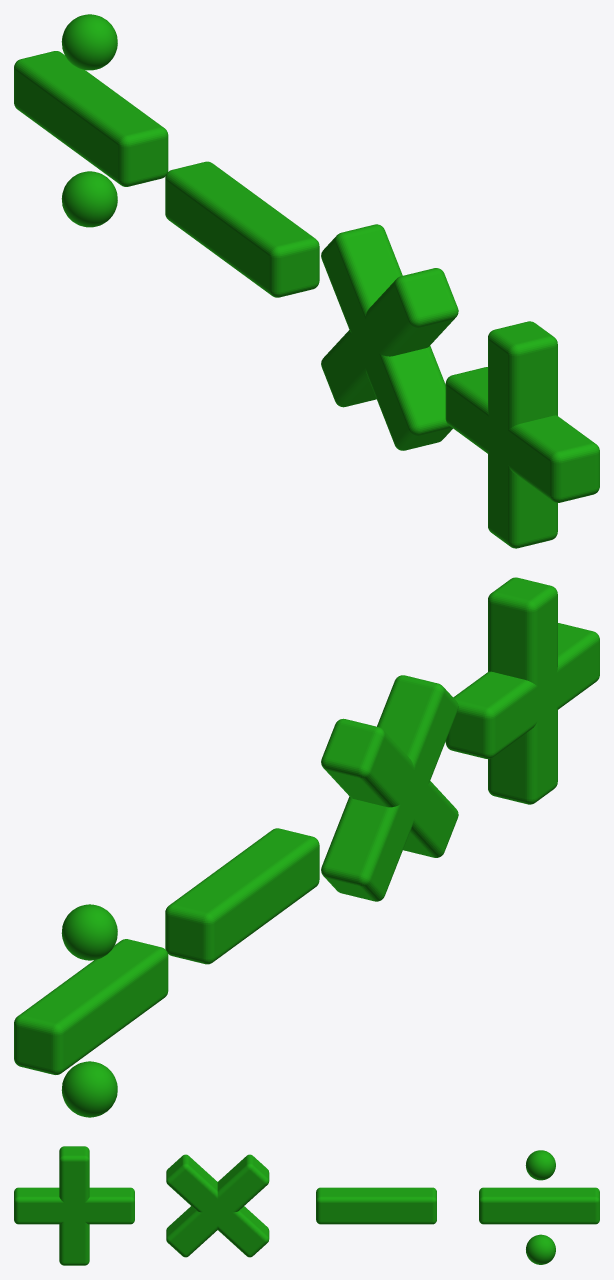
Rendered from operadores.fbx.
3 renders of one model, top to bottom at view 1: azimuth 30°, elevation 25°; view 2: azimuth 150°, elevation 25°; view 3: azimuth 270°, elevation 25°, orthographic. The views are drawn at different scales.
Parts seen in each view (by area): view 1: Cube, Cube.001, Sphere.001, Cube.002; view 2: Cube.001, Cube, Sphere.001, Cube.002; view 3: Cube.001, Cube, Sphere.001, Cube.002.
Boxes of the visible parts, x1,y1,x2,y2 form: Cube: (445,321,599,548); Cube.001: (321,224,458,450); Sphere.001: (14,14,168,227); Cube.002: (165,161,319,297); Cube.001: (321,675,458,901); Cube: (445,577,599,804); Sphere.001: (14,904,168,1117); Cube.002: (165,828,319,964); Cube.001: (166,1154,269,1257); Cube: (14,1146,134,1265); Sphere.001: (479,1150,599,1264); Cube.002: (316,1187,436,1224).
Bounding box in the file's own units: 200 × 820 × 3874.
